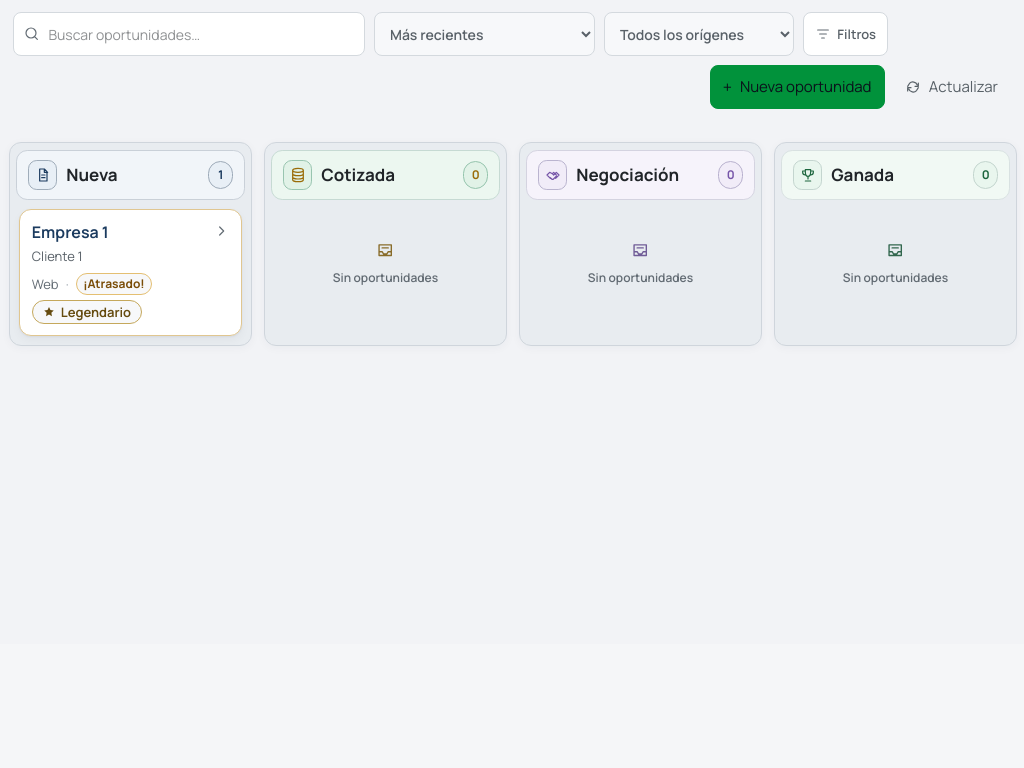
PipelinePage › creates a manual opportunity without reloading stages and reveals it only on explicit action
Expected: the heading "Nueva" is shown, [66,163,118,187]
Type "otra búsqueda" into the search field labelled "Buscar oportunidades" at (189, 34), box [13,12,365,56]
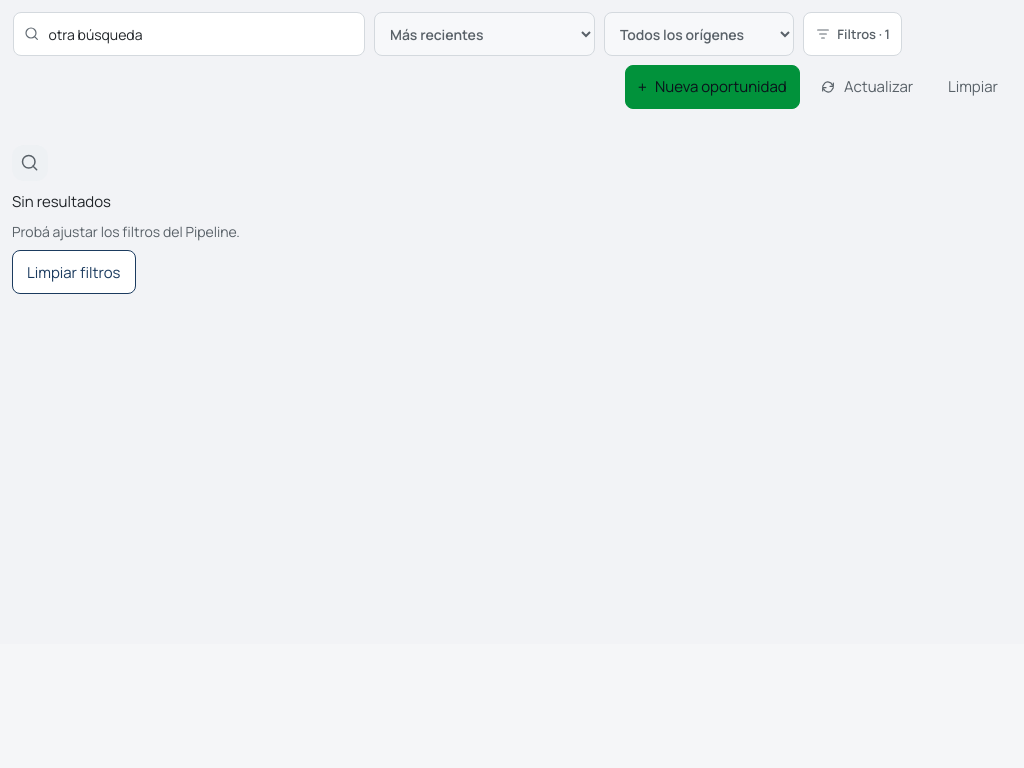
Result: the heading "Sin resultados" is shown at [12,190,111,213]
Click the button "+ Nueva oportunidad" at (712, 87), box [625,65,800,109]
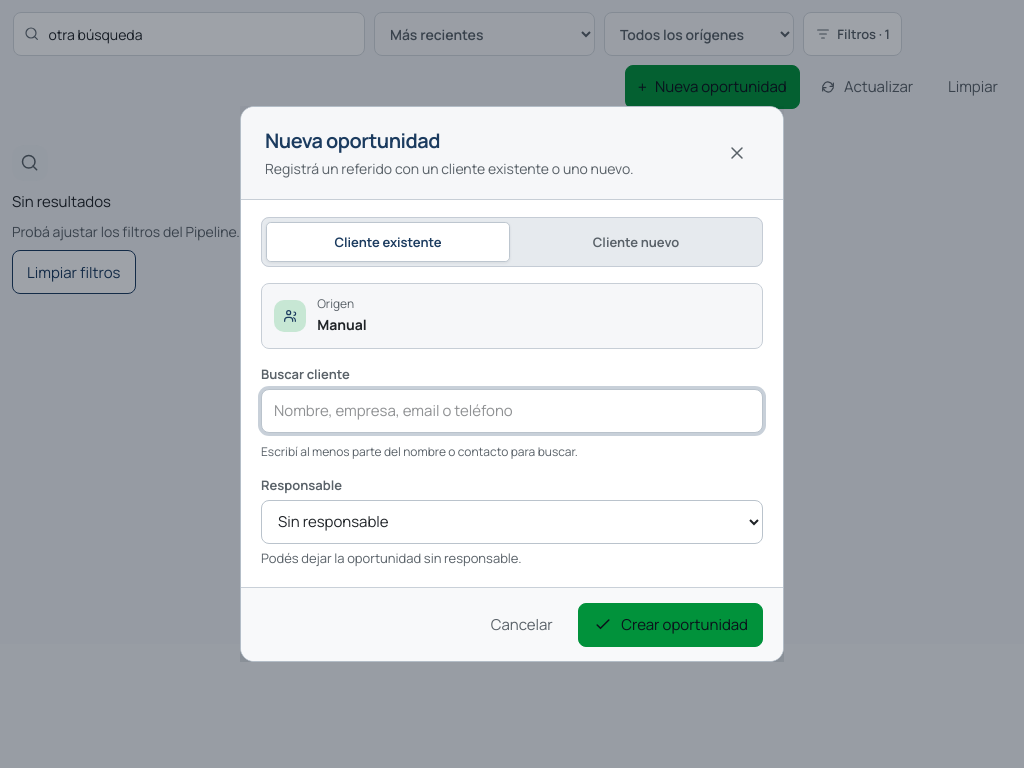
Click the button "Cliente nuevo" at (636, 242), box [514,222,758,262]
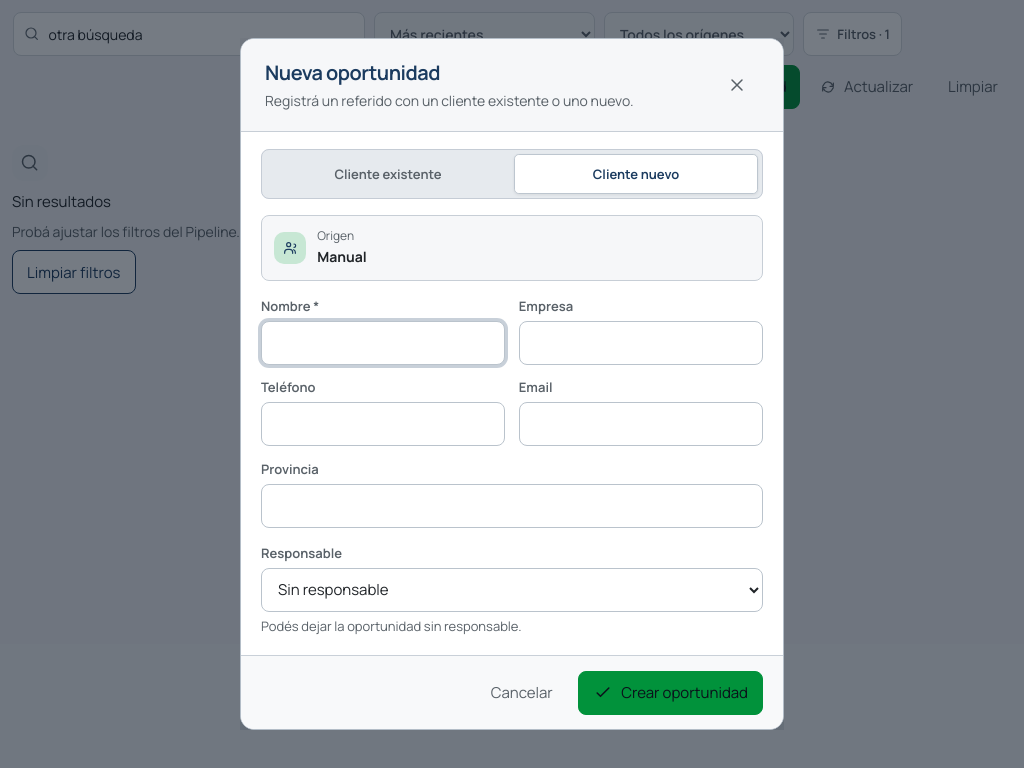
Type "Cliente referido" into the field labelled "Nombre *" at (383, 343), box [261,321,505,365]
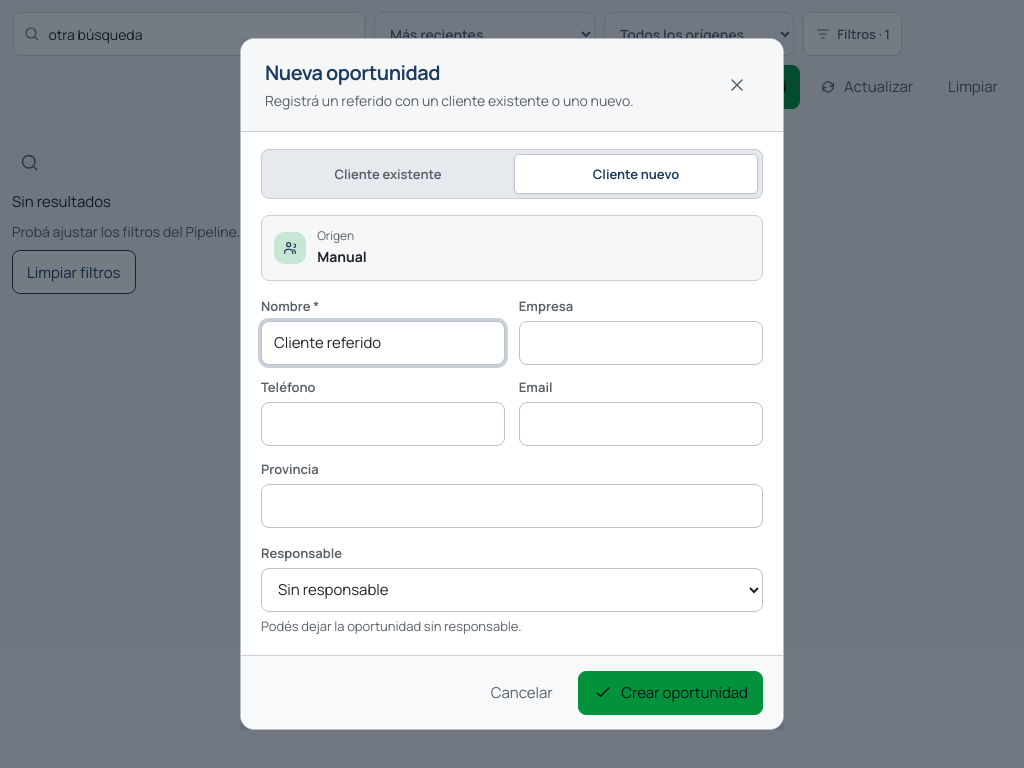
Click the button "Crear oportunidad" at (671, 693), box [578,671,763,715]
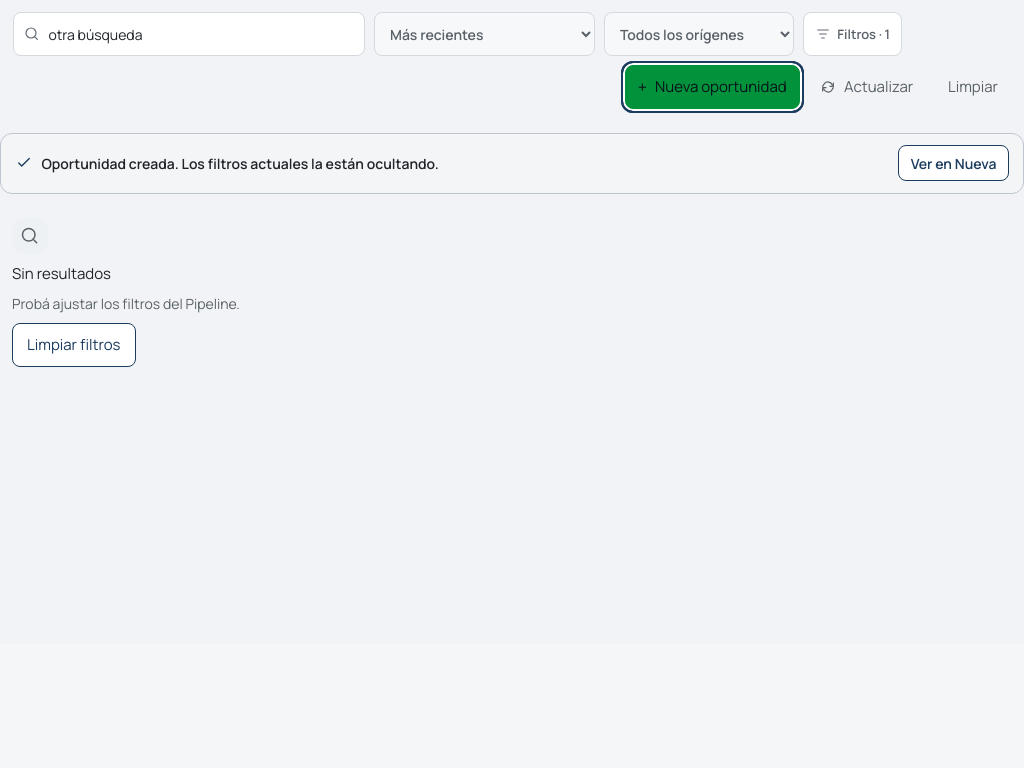
Result: the text "Oportunidad creada. Los filtros actuales la están ocultando." is shown 2 times
Click the button "Ver en Nueva" at (954, 163), box [898,145,1009,181]
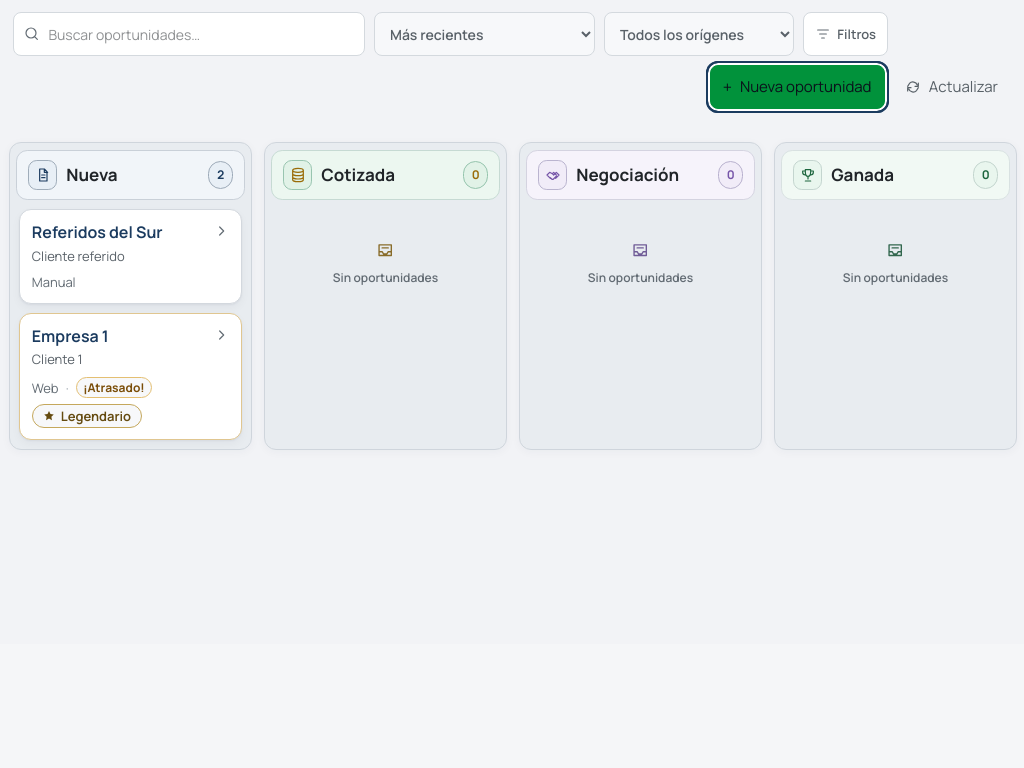
Result: the text "Referidos del Sur" is shown at [32,221,163,243]
Result: the search field labelled "Buscar oportunidades" is empty at [13,12,365,56]
